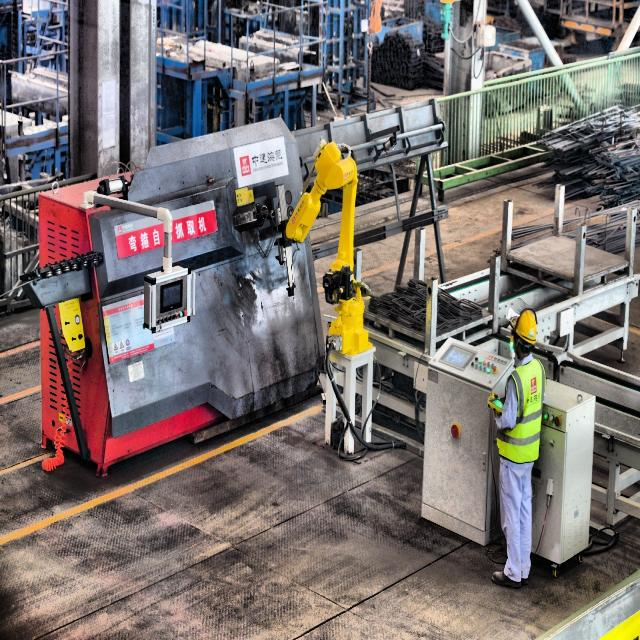safety_helmet: (509, 305, 541, 362)
safety_jacket: (488, 364, 547, 472)
